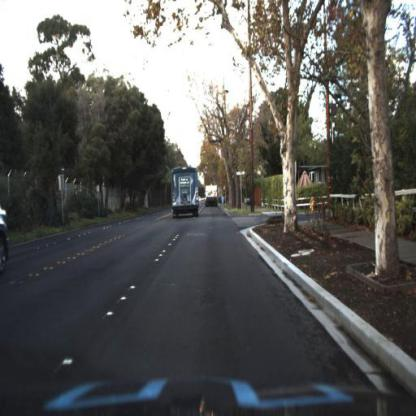car: (2, 203, 11, 284)
truck: (170, 164, 202, 223), (203, 182, 221, 211)
